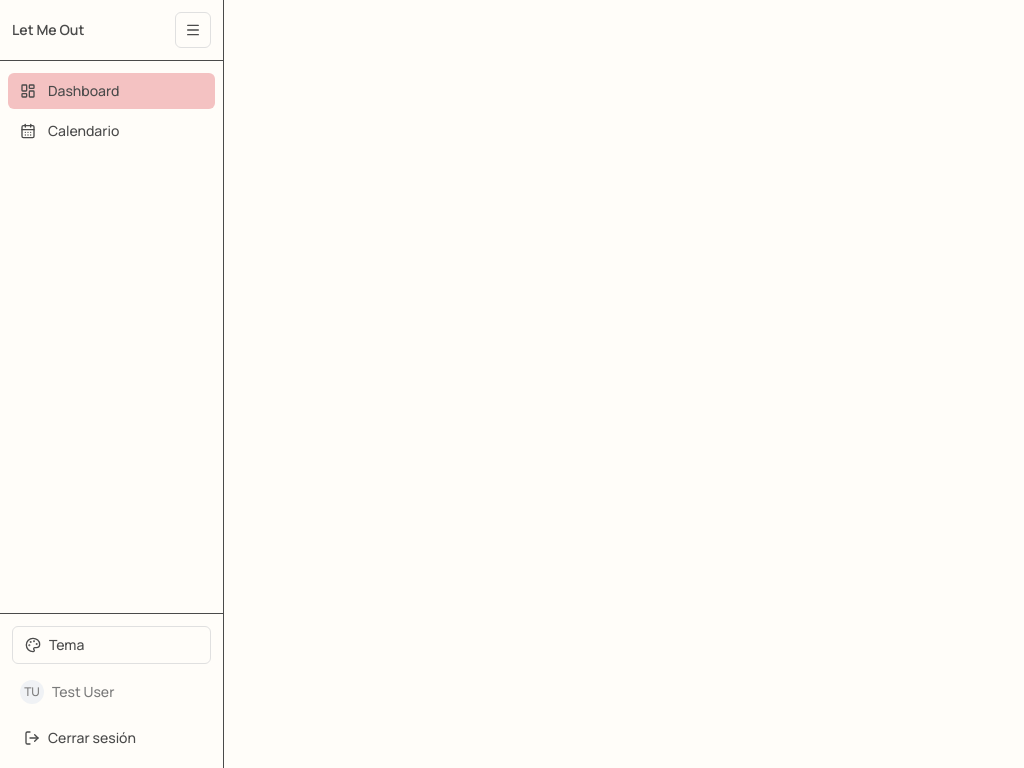
AppSidebar › opens avatar dialog from user footer control
Click the button with aria-label "Editar avatar": (112, 692) [12, 672, 211, 712]
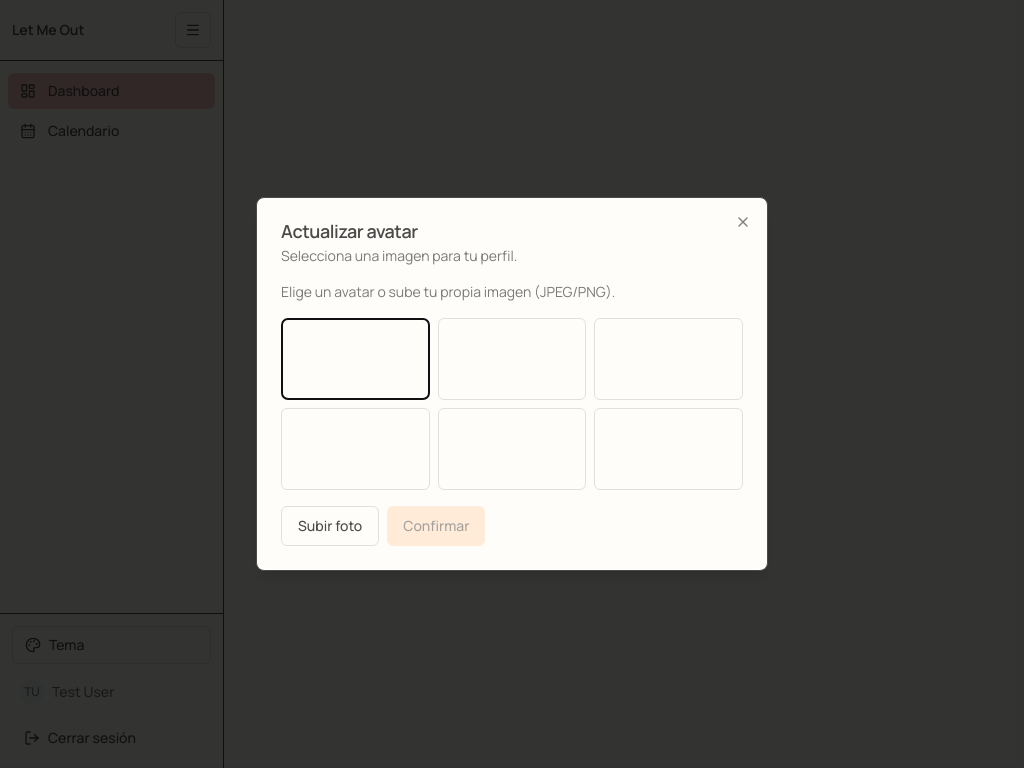
Expected: the heading "Actualizar avatar" is shown, [281, 219, 418, 243]
